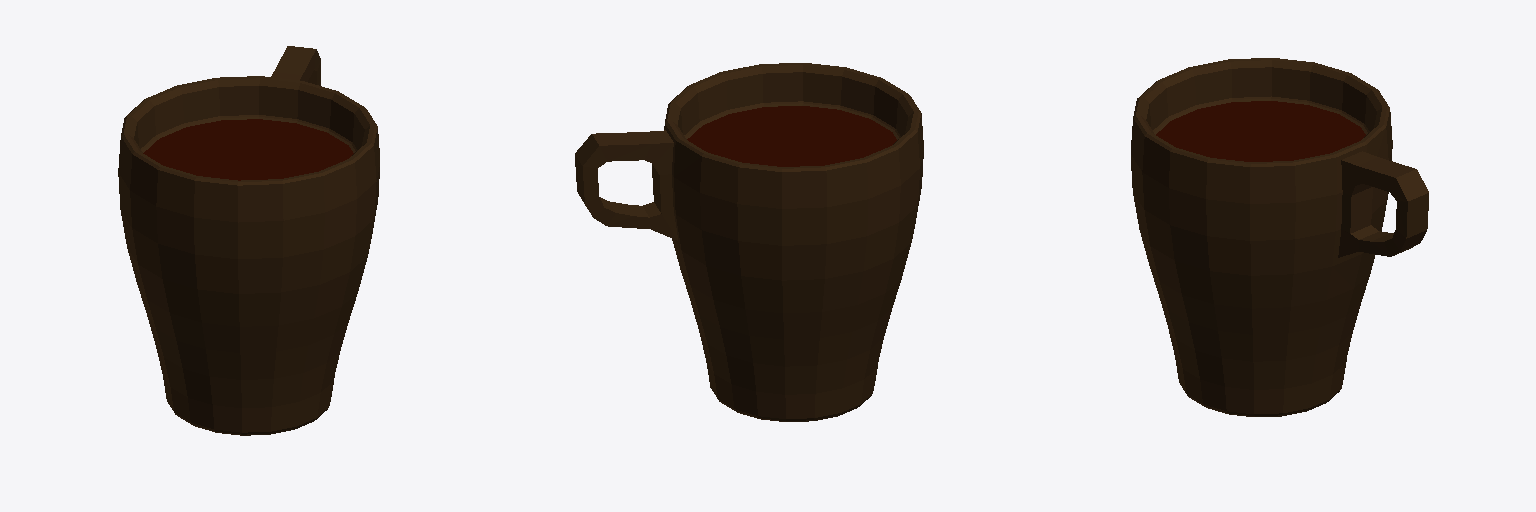
File: mug_full.obj
The picture shows the model from 3 angles: view 1: azimuth 30°, elevation 25°; view 2: azimuth 150°, elevation 25°; view 3: azimuth 270°, elevation 25°; orthographic projection.
Visible parts, largest first — view 1: mug_full_mug2.001; view 2: mug_full_mug2.001; view 3: mug_full_mug2.001.
Boxes of the visible parts, x1=… form: mug_full_mug2.001: x1=118, y1=46, x2=379, y2=435; mug_full_mug2.001: x1=575, y1=63, x2=923, y2=421; mug_full_mug2.001: x1=1131, y1=58, x2=1428, y2=416.
Bounding box in the file's own units: 0.0259 × 0.0262 × 0.0259.